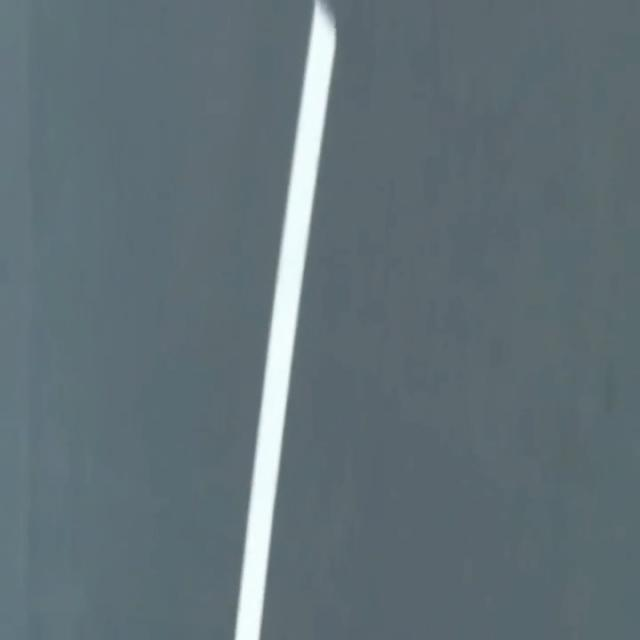center: (234, 0, 335, 639)
